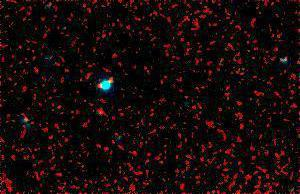star: (95, 65, 125, 95)
